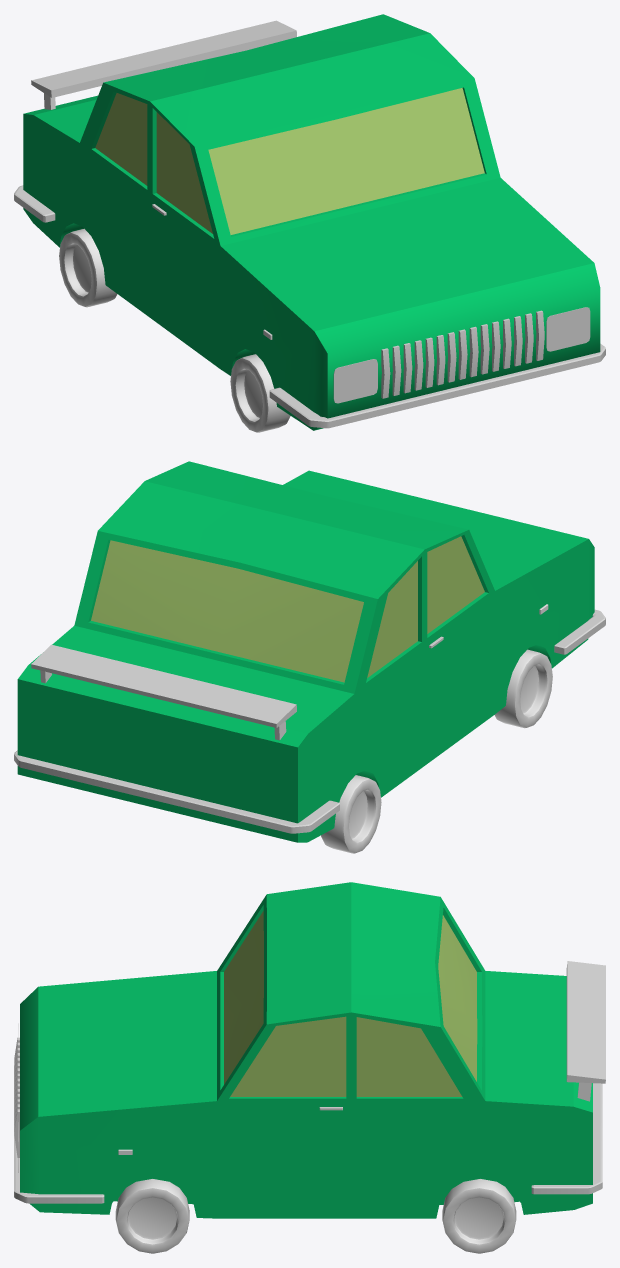
File: year3 CAR1[01] (2).fbx
3 renders of one model, top to bottom at view 1: azimuth 30°, elevation 25°; view 2: azimuth 150°, elevation 25°; view 3: azimuth 270°, elevation 25°, orthographic. The views are drawn at different scales.
Parts seen in each view (by area): view 1: Box001, Shape019, Shape017, Object001, Cylinder002, Cylinder006, Shape018; view 2: Box001, Shape019, Shape018, Cylinder006, Cylinder002, Shape017; view 3: Box001, Shape019, Cylinder002, Cylinder006, Shape018, Shape017.
Part boxes in pixels (x1,y1,x2,y2): Box001: [23, 14, 600, 430]; Shape019: [31, 20, 296, 97]; Shape017: [269, 343, 605, 428]; Object001: [333, 307, 590, 403]; Cylinder002: [230, 354, 290, 432]; Cylinder006: [59, 228, 117, 307]; Shape018: [14, 185, 55, 222]; Box001: [17, 461, 594, 842]; Shape019: [31, 644, 296, 727]; Shape018: [14, 750, 339, 833]; Cylinder006: [321, 775, 381, 853]; Cylinder002: [494, 649, 552, 728]; Shape017: [554, 609, 605, 654]; Box001: [20, 882, 592, 1218]; Shape019: [566, 961, 605, 1083]; Cylinder002: [115, 1179, 189, 1253]; Cylinder006: [442, 1179, 516, 1253]; Shape018: [531, 1083, 602, 1194]; Shape017: [14, 1065, 104, 1203].
Size of the model in its own units: 12.57 by 10.17 by 22.77.
